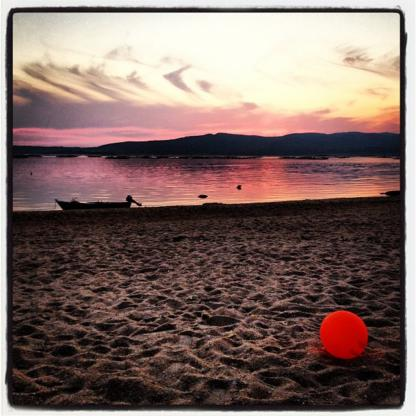Ball: (319, 311, 368, 360)
